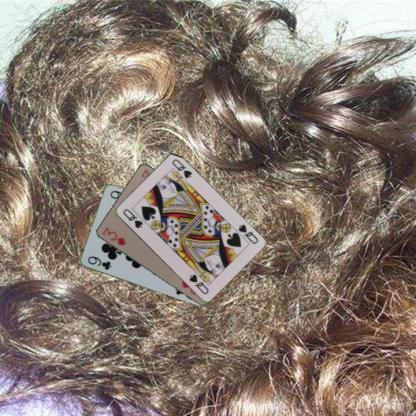3d: (100, 224, 126, 247)
9c: (85, 254, 112, 271)
Qs: (235, 221, 260, 245), (120, 206, 144, 230)
